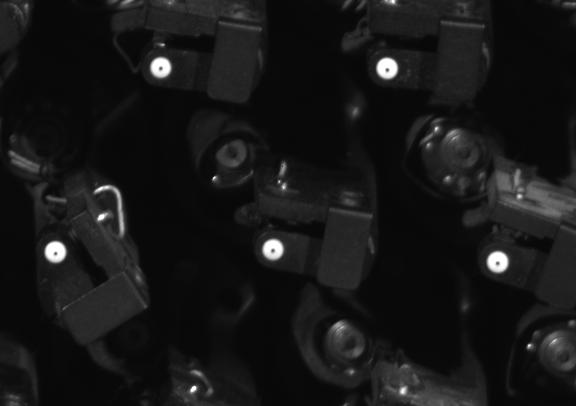fiber: (371, 53, 407, 86), (38, 238, 73, 268), (482, 246, 514, 278), (257, 236, 289, 264), (148, 54, 176, 81)
